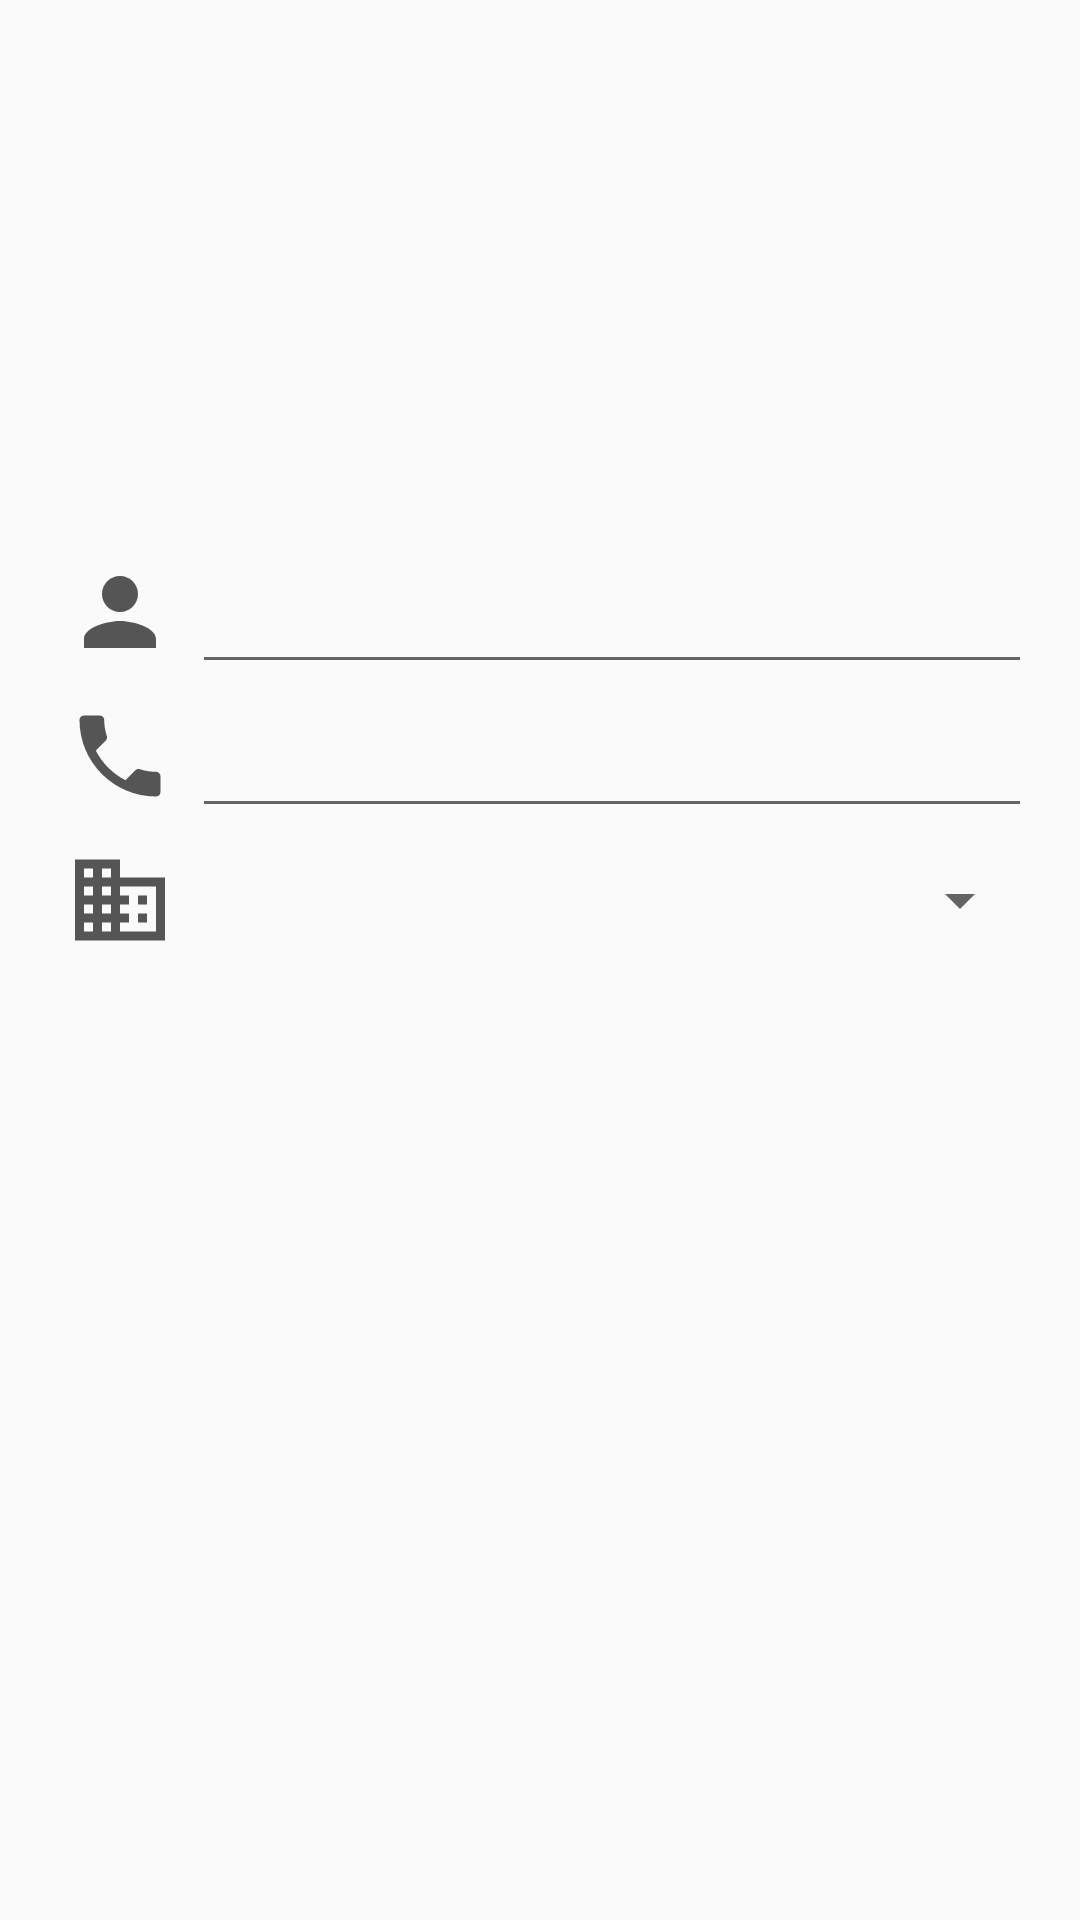

Icons on this 1080x1920 Android screen, each with the point to tap as (x=x, y=y):
call: (x=120, y=756)
person: (x=120, y=612)
